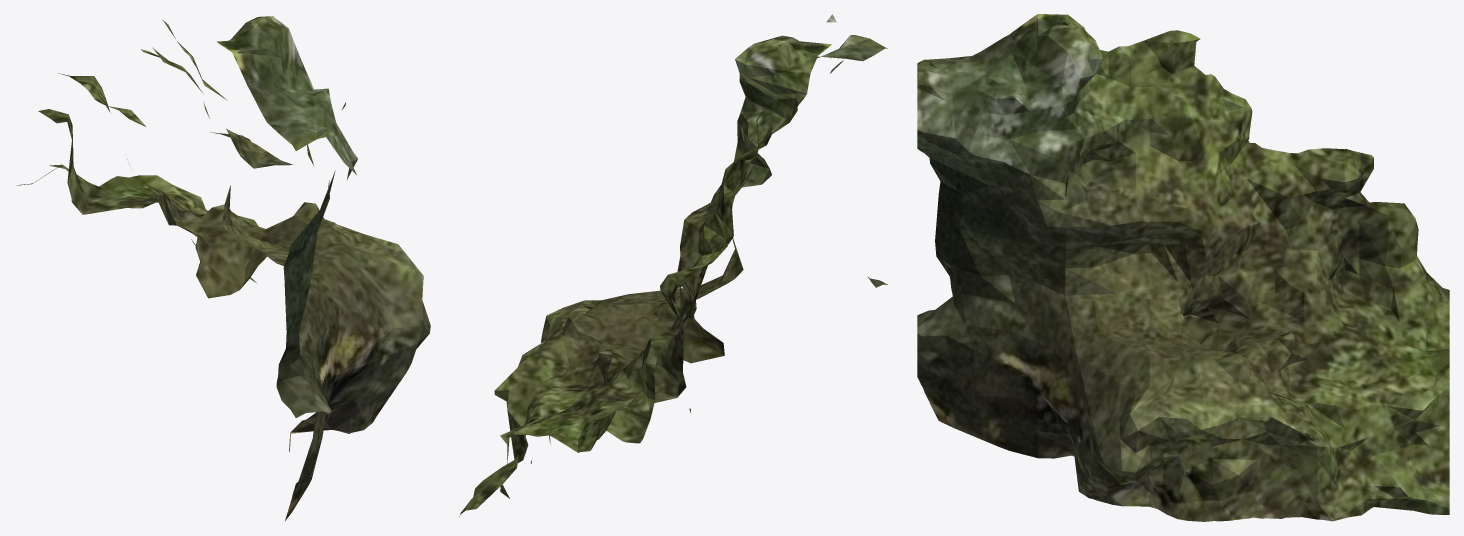
3 views of the same model, side by side, from view 1: azimuth 30°, elevation 25°; view 2: azimuth 150°, elevation 25°; view 3: azimuth 270°, elevation 25° (orthographic). The views are drawn at different scales.
Size of the model in its own units: 1.48 by 2.53 by 2.95.
Materials: 3 (3 with a texture image).
